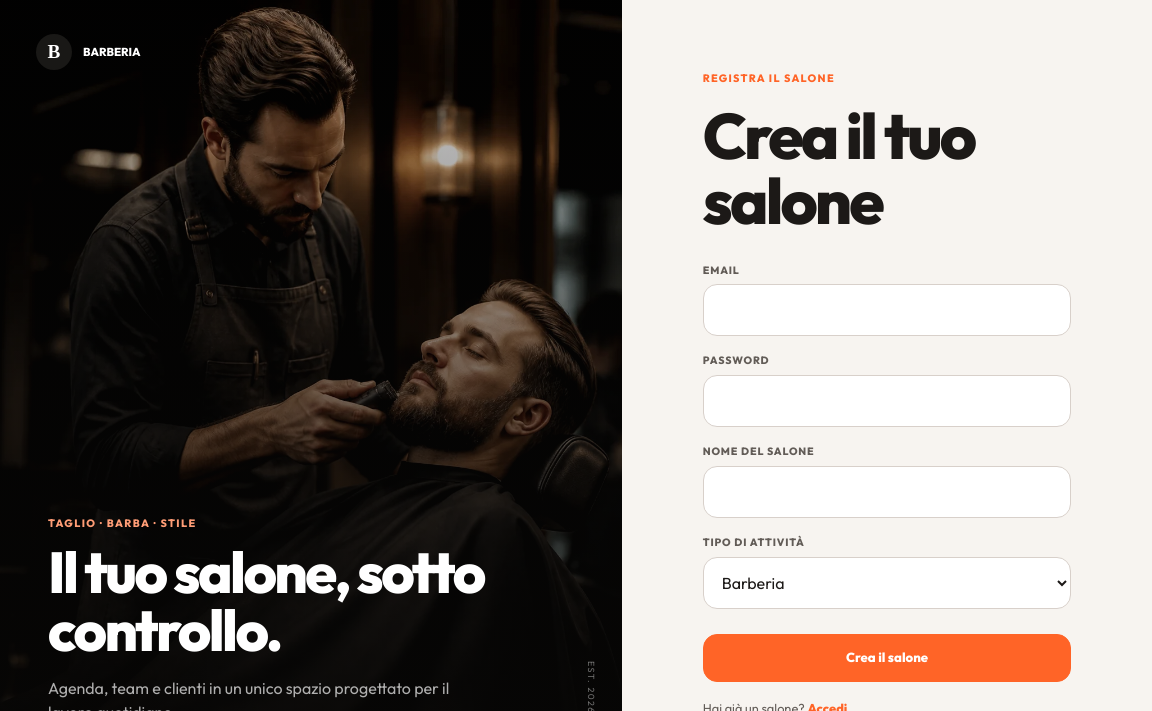
Test case: OnboardingPage › mostra un errore se registerOwner fallisce
Type "t@ex.com" into the field labelled "Email" at (887, 310), box [703,284,1071,336]
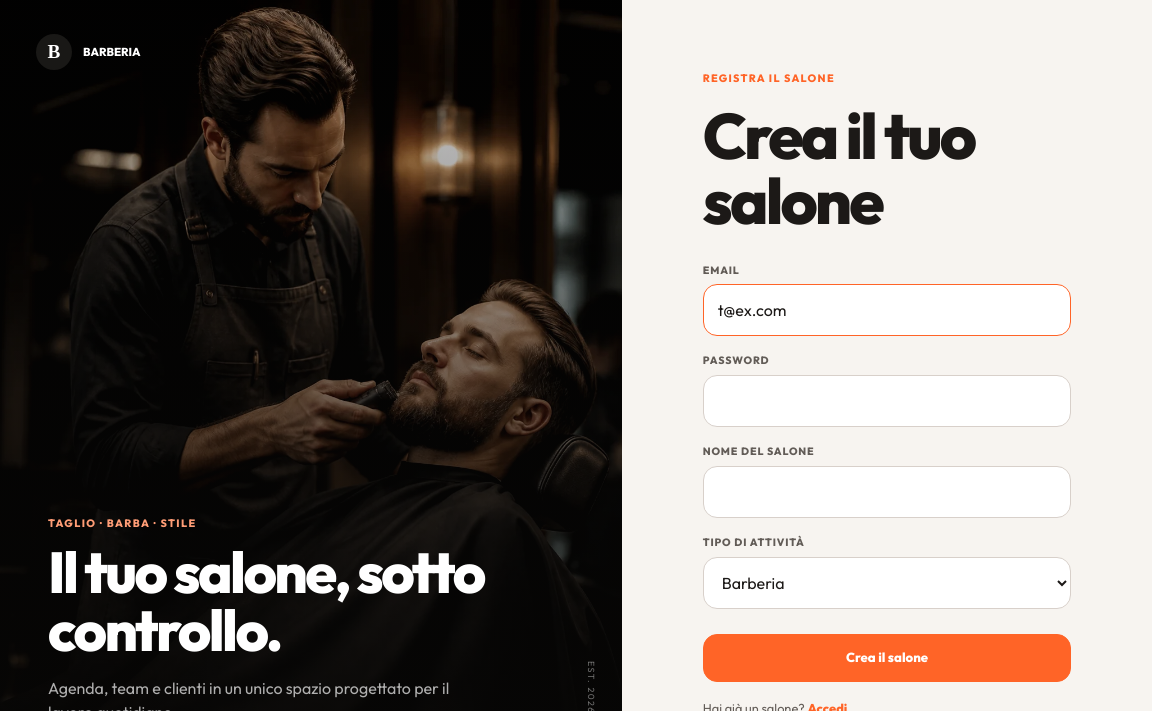
Type "password123" into the password field labelled "Password" at (887, 401), box [703,375,1071,427]
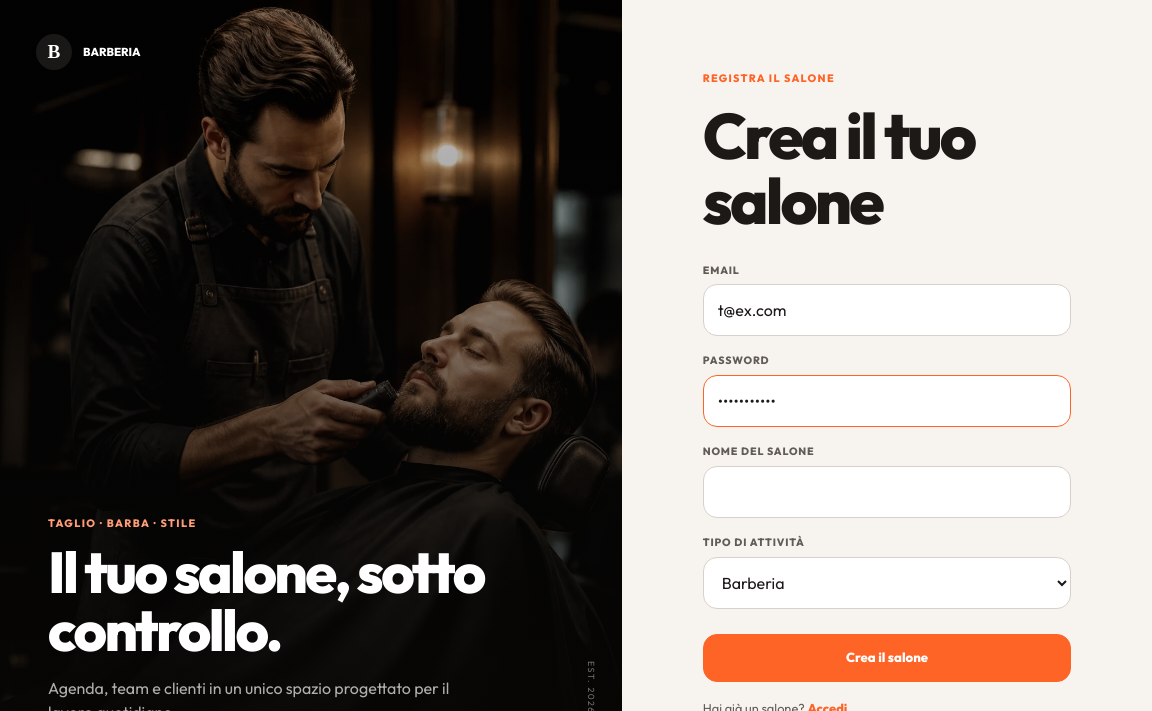
Type "Barberia X" into the field labelled "Nome del salone" at (887, 492), box [703,466,1071,518]
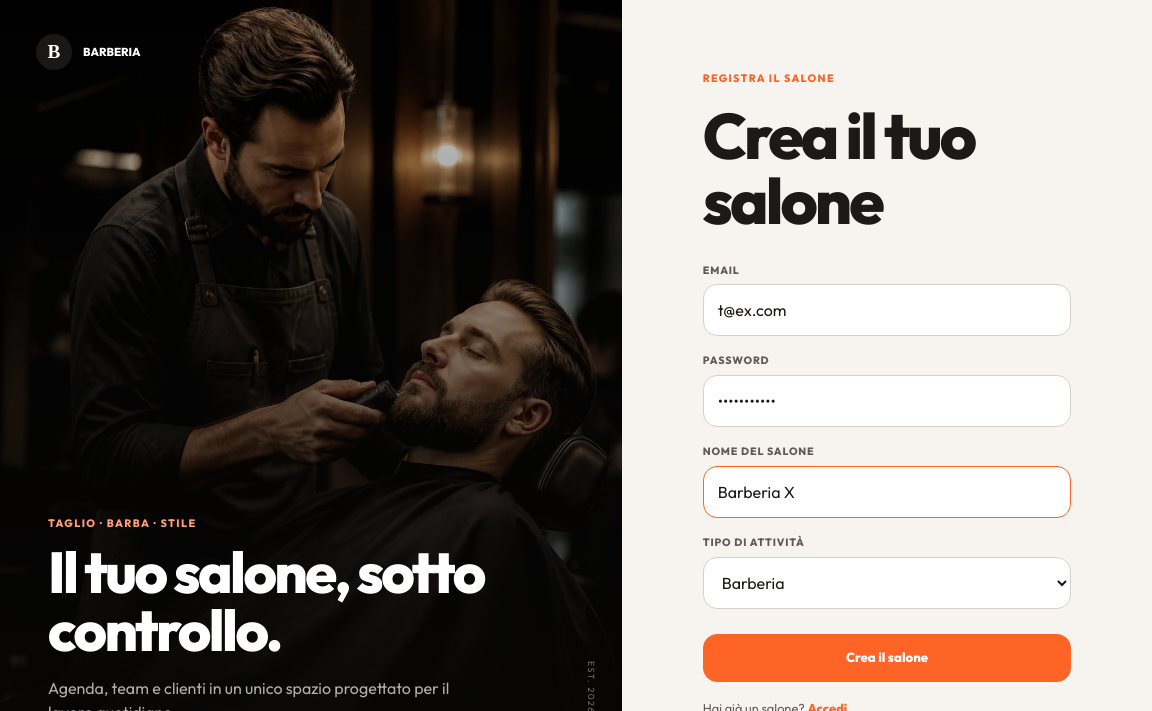
Click the button "Crea il salone" at (887, 658), box [703,634,1071,682]
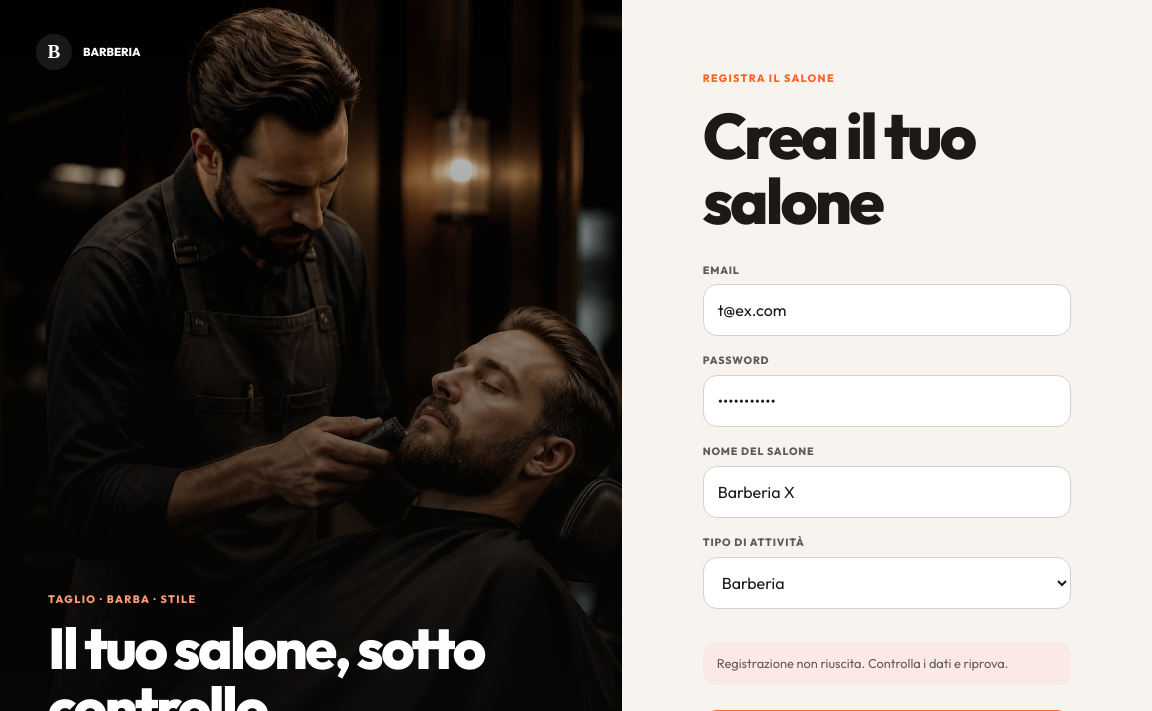
Expected: the message "Registrazione non riuscita. Controlla i dati e riprova." is shown, [703,642,1071,685]
